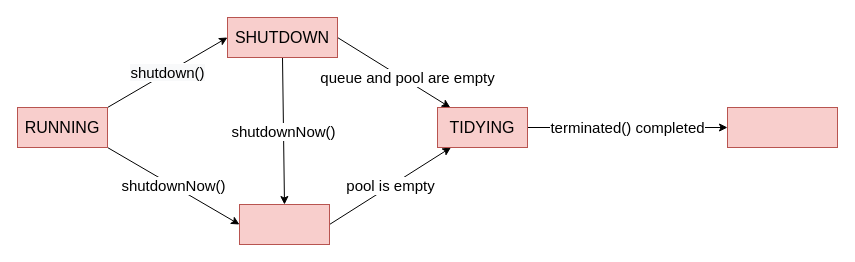
This 855x262 diagram has some shape labels left out. The box of each missing label's shape, as (x1, y1, x2, y2) in pixels:
STOP: (238, 204, 330, 244)
TERMINATED: (726, 106, 838, 148)
